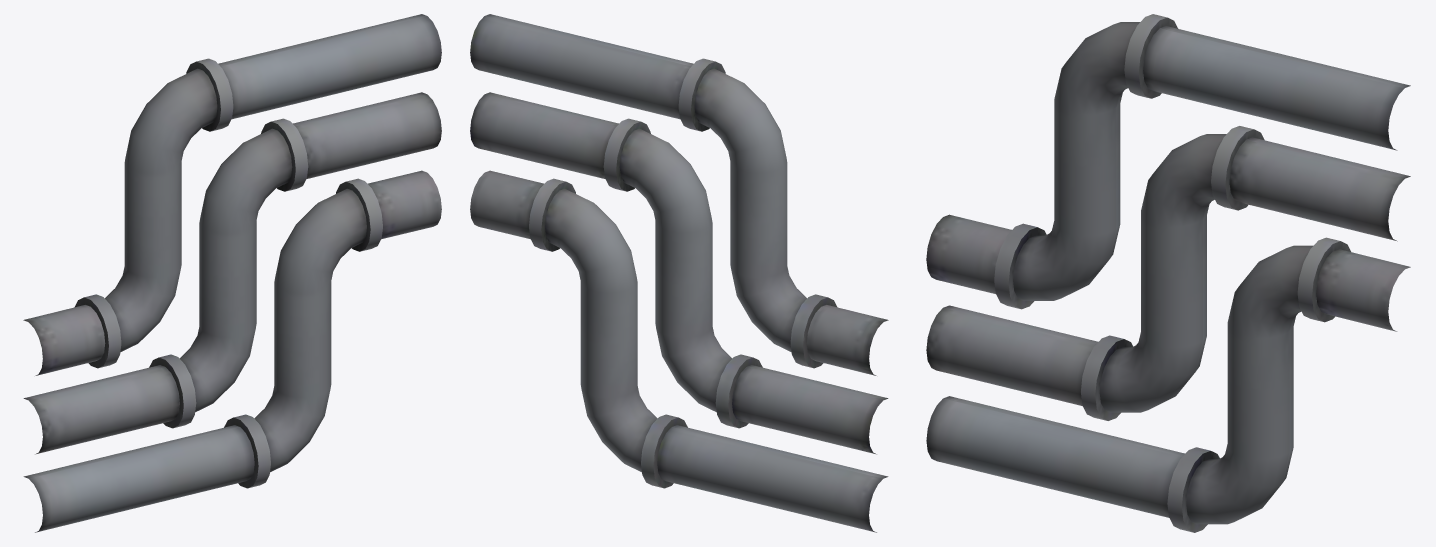
The picture shows the model from 3 angles, left to right: view 1: azimuth 30°, elevation 25°; view 2: azimuth 150°, elevation 25°; view 3: azimuth 330°, elevation 25°; orthographic projection. The views are drawn at different scales.
Visible parts, largest first — view 1: body0_model0_lod0_mesh0; view 2: body0_model0_lod0_mesh0; view 3: body0_model0_lod0_mesh0.
Boxes of the visible parts, left/top/right/bottom form: body0_model0_lod0_mesh0: left=23, top=14, right=441, bottom=532; body0_model0_lod0_mesh0: left=470, top=14, right=888, bottom=532; body0_model0_lod0_mesh0: left=926, top=14, right=1410, bottom=532.
Bounding box in the file's own units: 64 × 66.05 × 10.1.
1 material, 1 textured.
